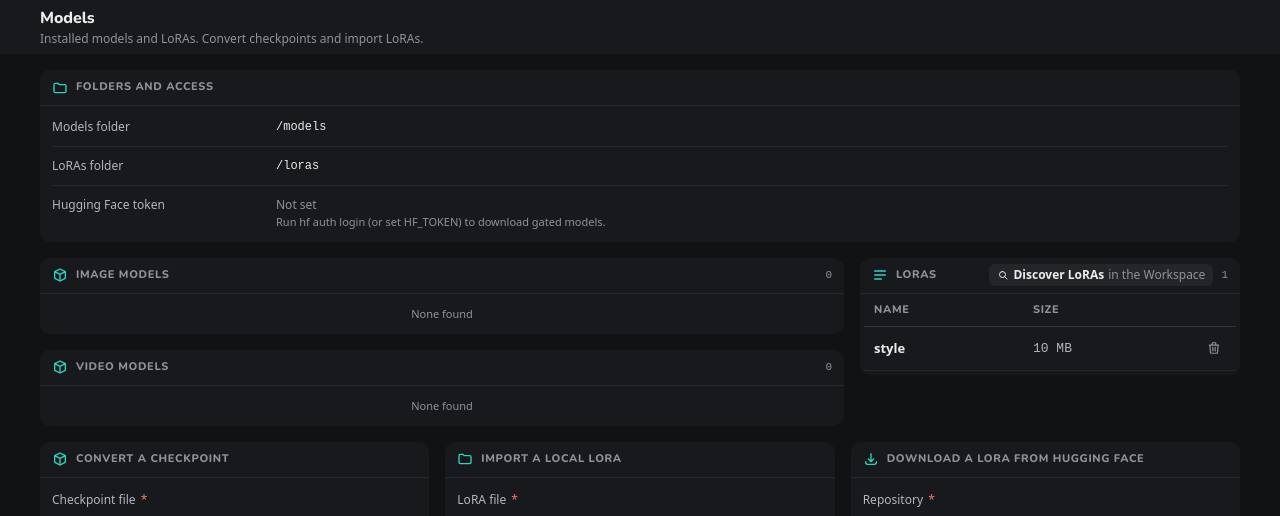
Test: ModelsPage Browse buttons › deletes a LoRA after confirmation and surfaces a refused delete
Click the button with test id "delete-button" at [1214, 348], box [1202,336,1226,360]
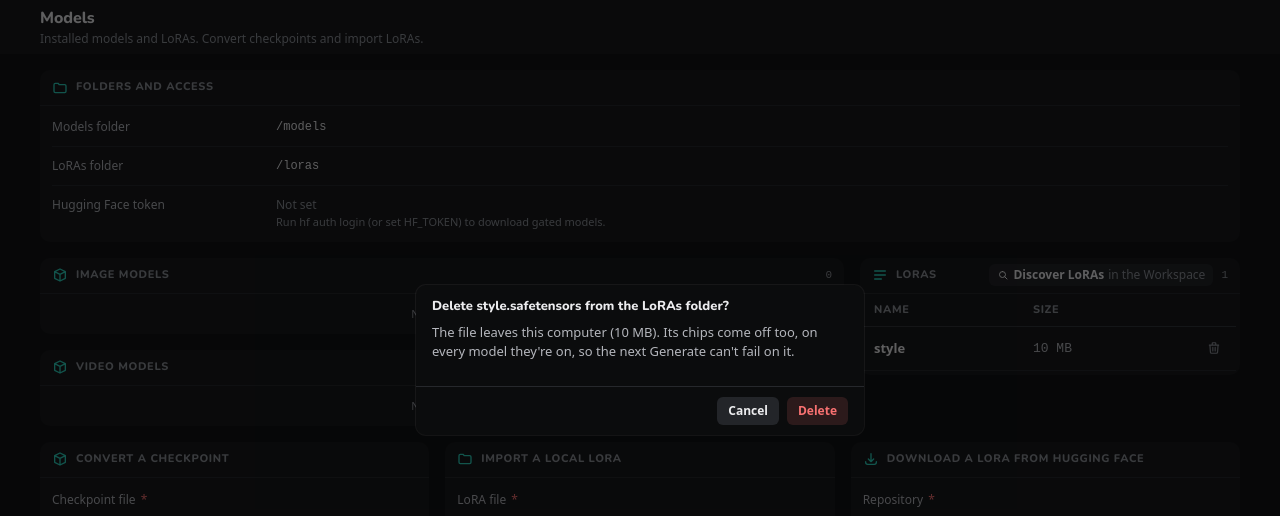
Expected: the dialog shows "style.safetensors", [432,297,729,315]
Click the button "Delete" at [818, 411], box [787,397,848,425]
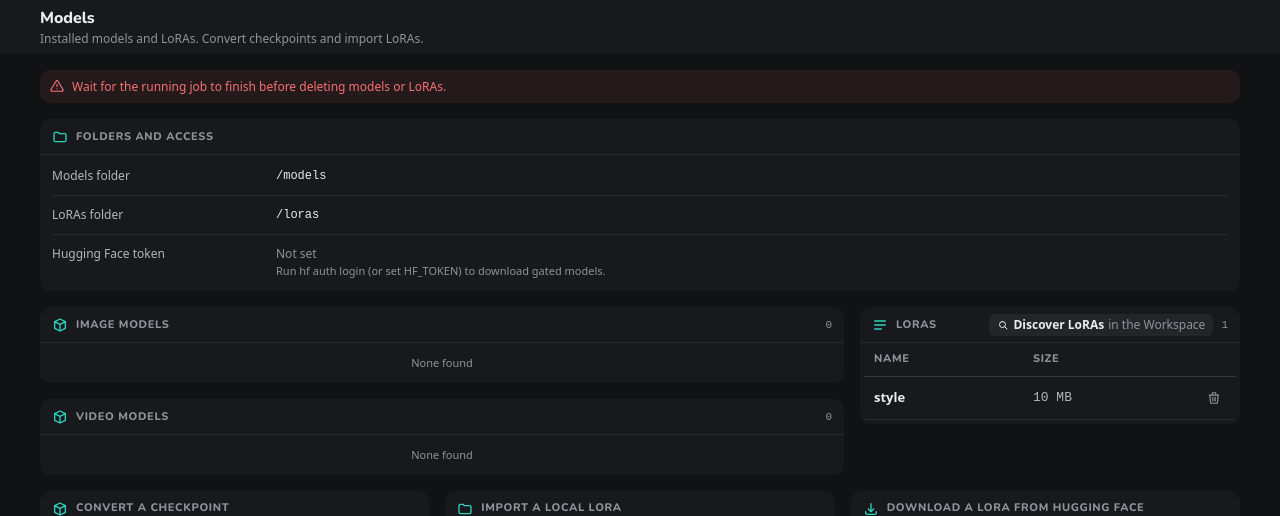
Expected: the text "Wait for the running job to finish" is shown, [72,78,446,95]
